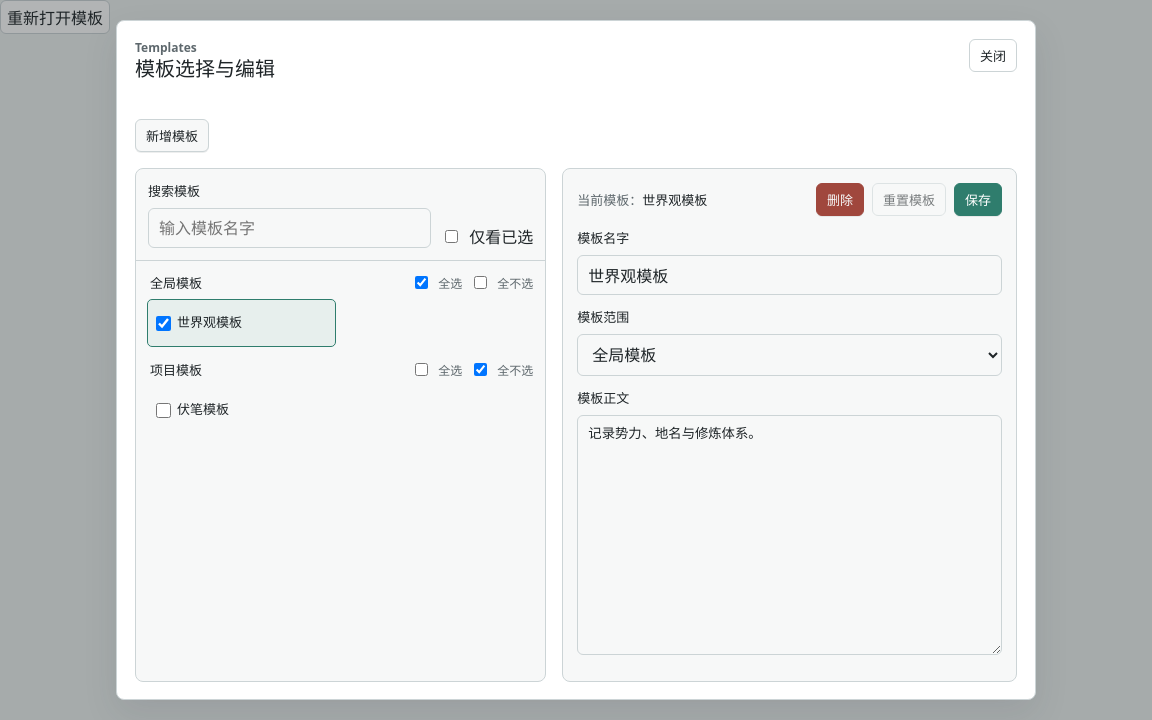
Test: TemplateManagementModal › shows editor actions beside the current template and deletes the active template
Expected: the button "保存" is shown, [954, 183, 1002, 216]
Replace the text in the text box labelled "模板正文" with "还没保存的模板正文" at [790, 535], box [577, 415, 1002, 655]
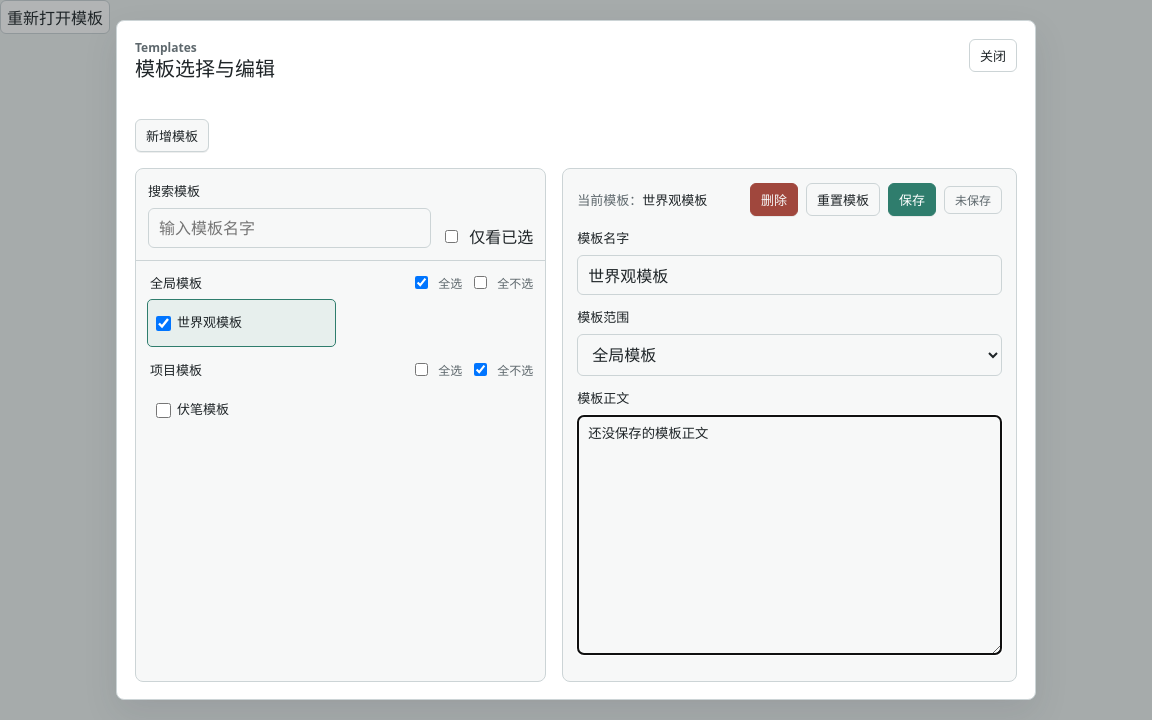
Now the text "未保存" is shown, box [944, 186, 1002, 214]
Click the button "重置模板" at [843, 200], box [806, 183, 880, 216]
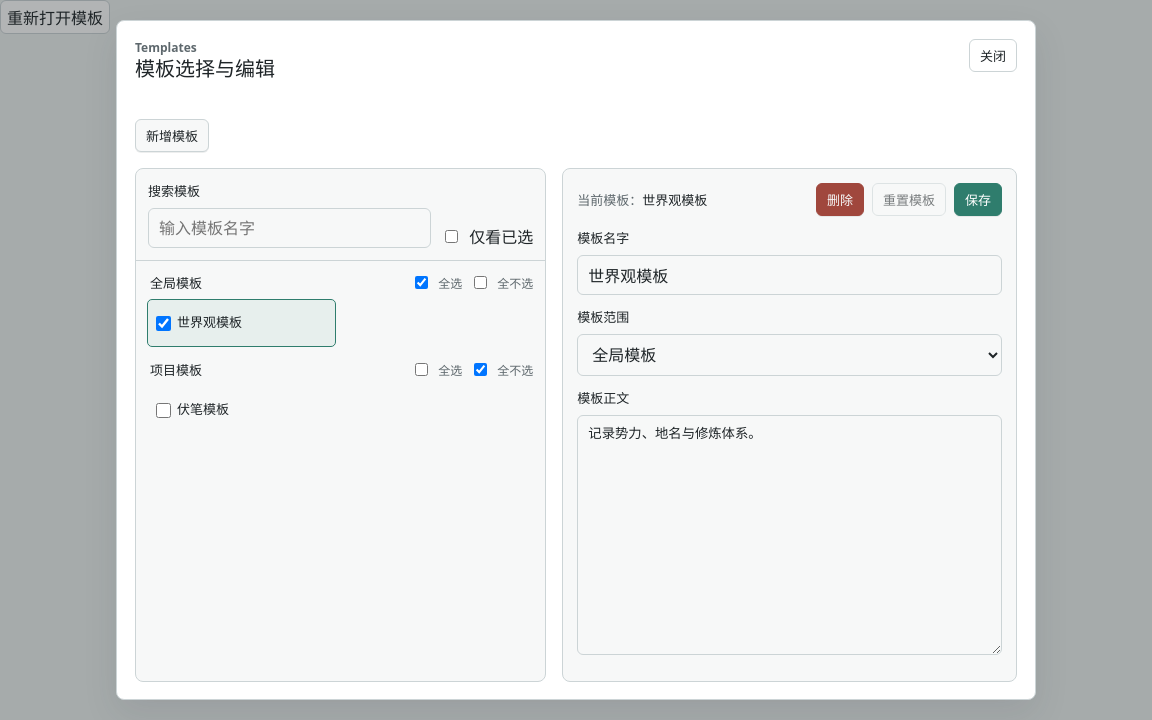
Click the button with aria-label "预览编辑 伏笔模板" at [252, 410], box [177, 393, 327, 427]
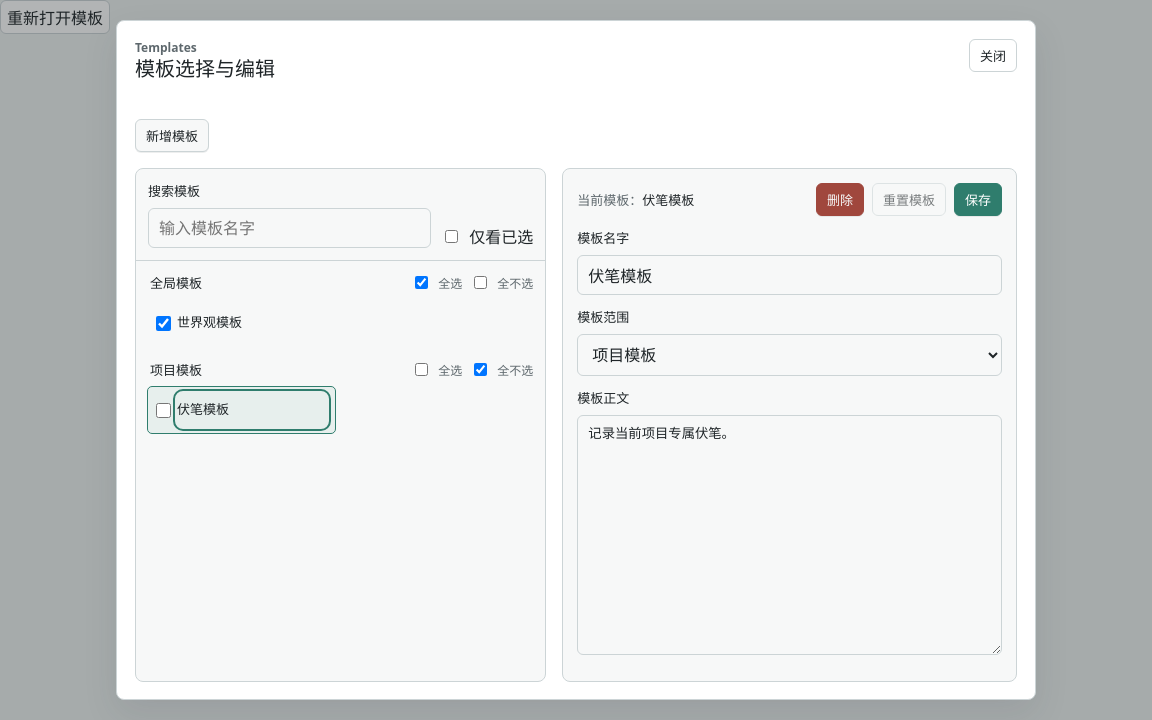
Click the button with aria-label "删除模板" at [840, 200], box [816, 183, 864, 216]
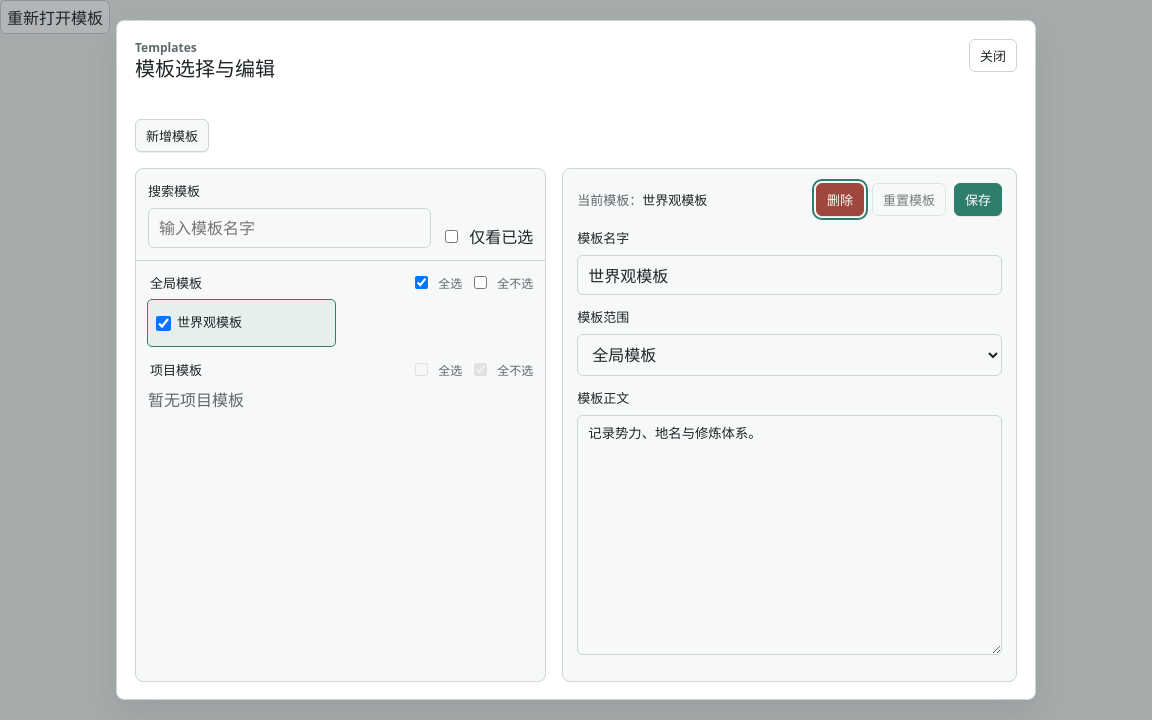
Now the text box labelled "模板正文" holds "记录势力、地名与修炼体系。", box [577, 415, 1002, 655]
